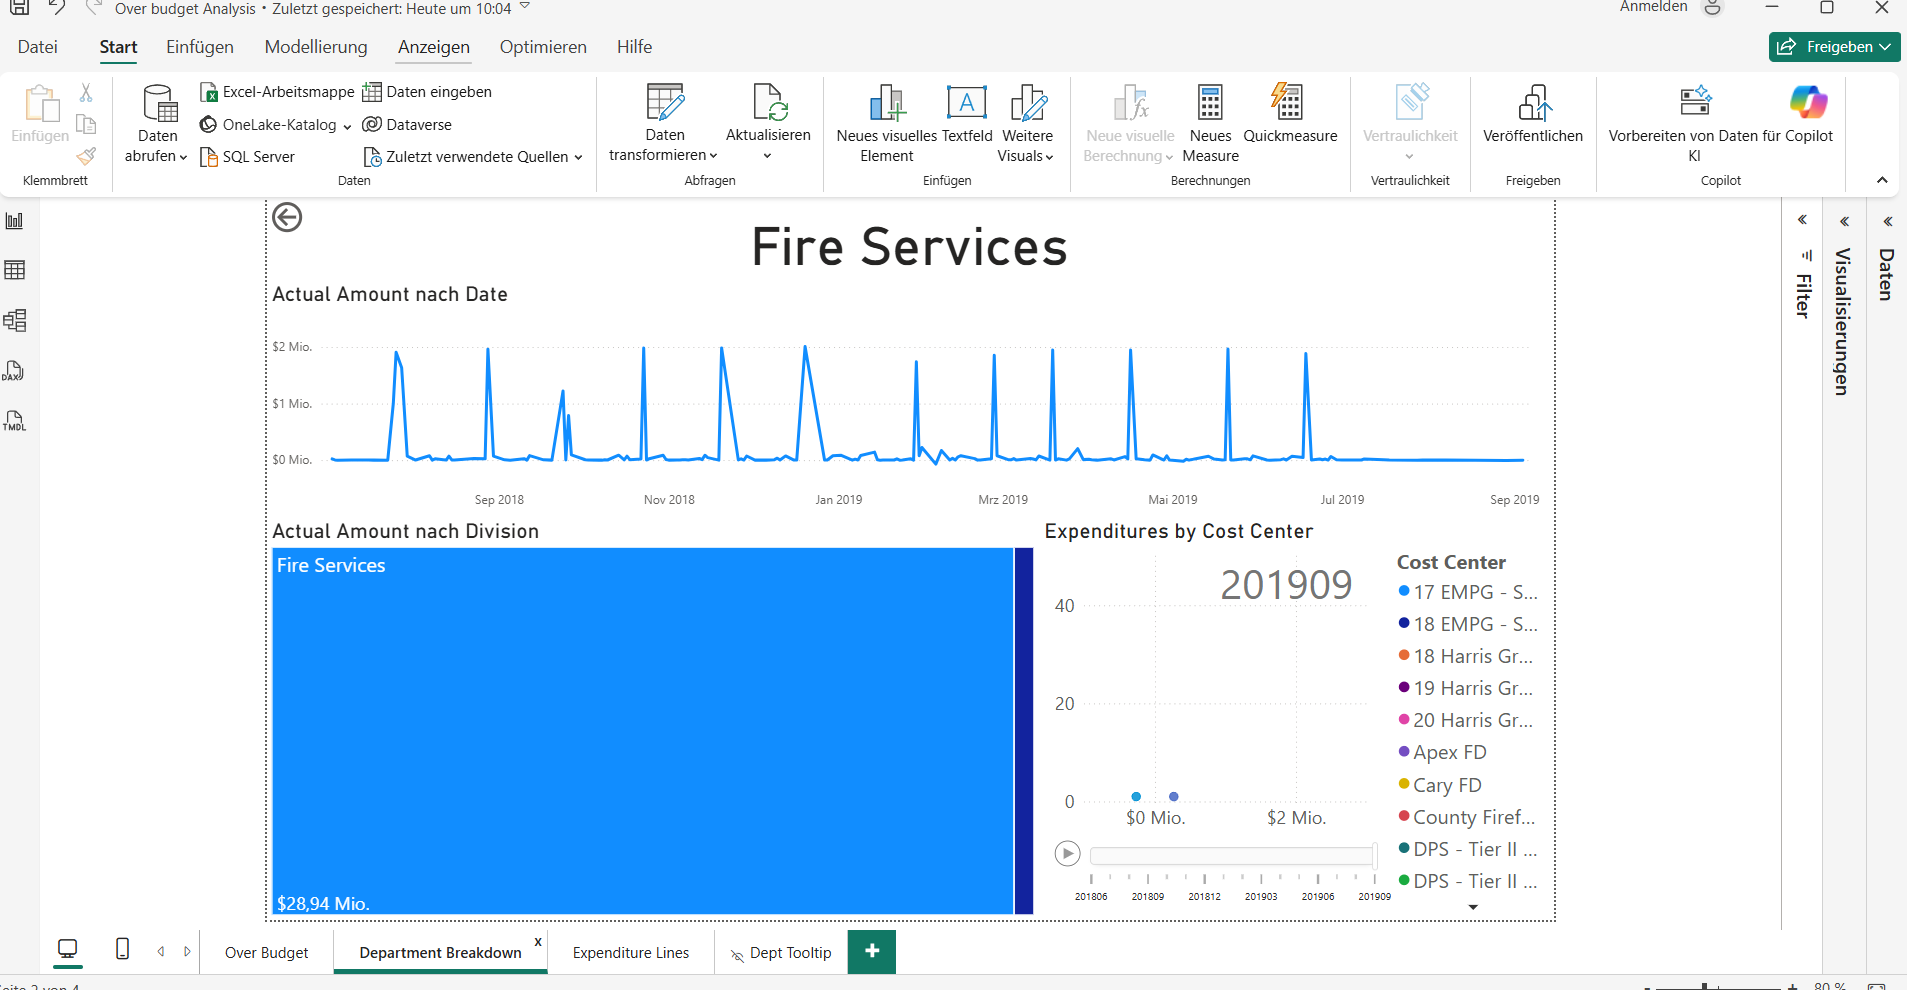

What the dashboard file says about the page in this screenshot:
{"tool":"powerbi","page":{"name":"Department Breakdown","canvas":[1280,720],"ordinal":1},"visuals":[{"type":"lineChart","fields":{"Y":["Sum(Expenditures.Actual Amount)"],"Category":["Recorded Date.Date"]},"box":[0,83.7,1280,236.9],"z":0},{"type":"treemap","fields":{"Values":["Sum(Expenditures.Actual Amount)"],"Group":["Cost Centers.Cost Center Hierarchy.Division","Cost Centers.Cost Center Hierarchy.Cost Center"]},"box":[0,320.3,768.4,400.1],"z":1000},{"type":"actionButton","box":[0,0,100,40],"z":2000},{"type":"scatterChart","title":"Expenditures by Cost Center","fields":{"Y":["Expenditures.Number of Expenditures"],"X":["Sum(Expenditures.Actual Amount)"],"Series":["Cost Centers.Cost Center"],"Play":["Recorded Date.Year and Month"]},"box":[768.4,320.3,511.6,400.1],"z":3000},{"type":"card","fields":{"Values":["Min(Cost Centers.Department)"]},"box":[52.6,0,1174.7,83.7],"z":4000}]}

Visuals, with their boxes on the page's 1280x720 design canvas (x1, y1, x2, y2). These are canvas units, not pixel positions in the 1907x990 screenshot, which may show the page scaled, cropped or inside an application window:
lineChart - Sum(Expenditures.Actual Amount) x Recorded Date.Date: (x1=0, y1=84, x2=1280, y2=321)
treemap - Sum(Expenditures.Actual Amount) x Cost Centers.Cost Center Hierarchy.Division: (x1=0, y1=320, x2=768, y2=720)
actionButton: (x1=0, y1=0, x2=100, y2=40)
"Expenditures by Cost Center" scatterChart: (x1=768, y1=320, x2=1280, y2=720)
card - Min(Cost Centers.Department): (x1=53, y1=0, x2=1227, y2=84)
